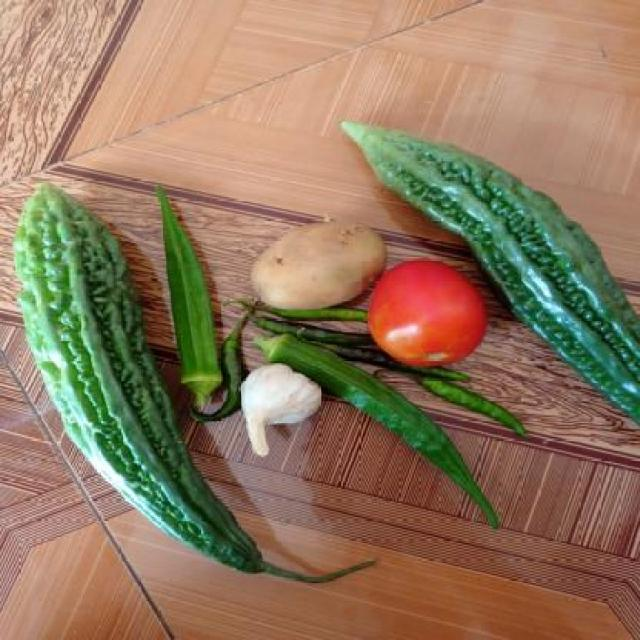Bitter melon: (15, 182, 157, 526), (495, 185, 640, 432)
Garlic: (232, 362, 325, 462)
Lady finger: (152, 189, 232, 391), (424, 377, 538, 437)
Potato: (249, 218, 386, 311)
Tomato: (368, 260, 490, 368)
